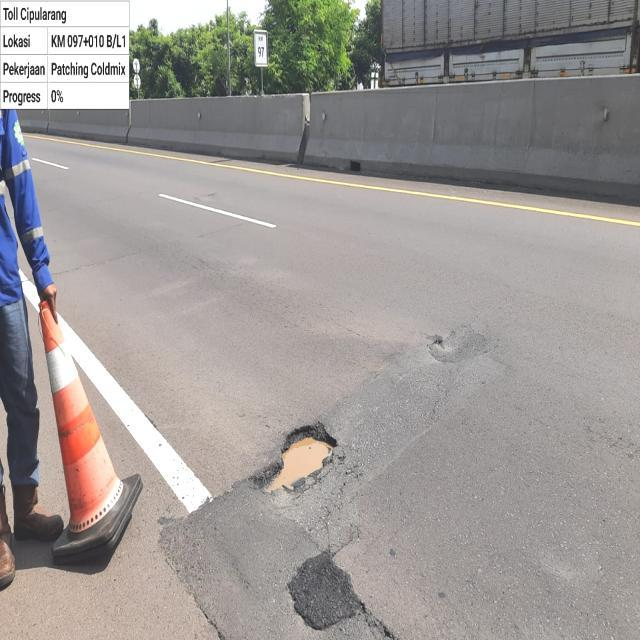Buraco: (245, 419, 342, 497)
